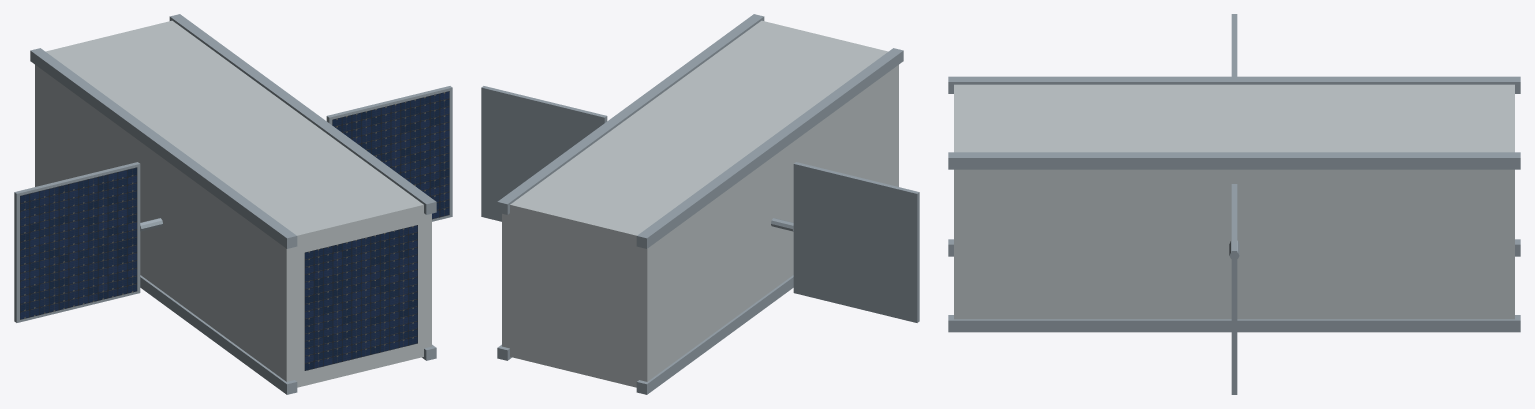
Rendered from ref-cubesat-3u-37252.glb.
The picture shows the model from 3 angles, left to right: view 1: azimuth 30°, elevation 25°; view 2: azimuth 150°, elevation 25°; view 3: azimuth 270°, elevation 25°; orthographic projection. The views are drawn at different scales.
Visible parts, largest first — view 1: Spacecraft body, Photovoltaic laminates (×2), Body-mounted cells, Dispenser rail (×3), Array frame (×2); view 2: Spacecraft body, Array frame (×2), Dispenser rail (×3); view 3: Spacecraft body, Dispenser rail (×3), Array frame.
Boxes of the visible parts, x1,y1,x2,y2 form: Spacecraft body: (35,20,431,387); Photovoltaic laminates (×2): (20,91,449,319); Body-mounted cells: (304,225,417,370); Dispenser rail (×3): (30,14,436,394); Array frame (×2): (14,86,452,322); Spacecraft body: (502,20,898,387); Array frame (×2): (481,86,919,322); Dispenser rail (×3): (497,14,903,394); Spacecraft body: (954,84,1514,319); Dispenser rail (×3): (948,76,1520,332); Array frame: (1231,184,1237,394).
Bounding box in the file's own units: 0.3 × 0.103 × 0.306.
3 materials, 1 textured.
